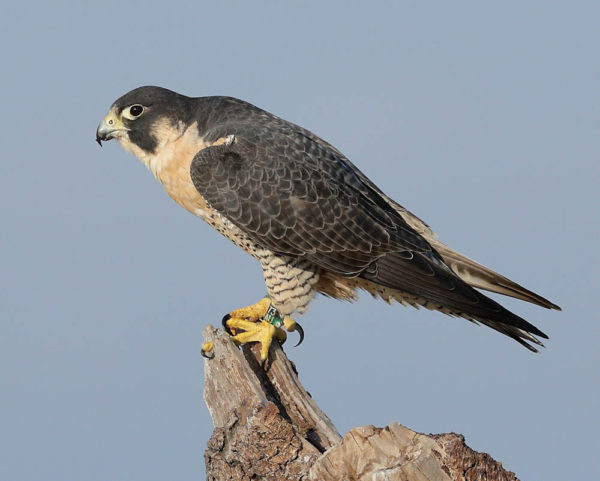Pengoyak Daging: (85, 111, 119, 150)
